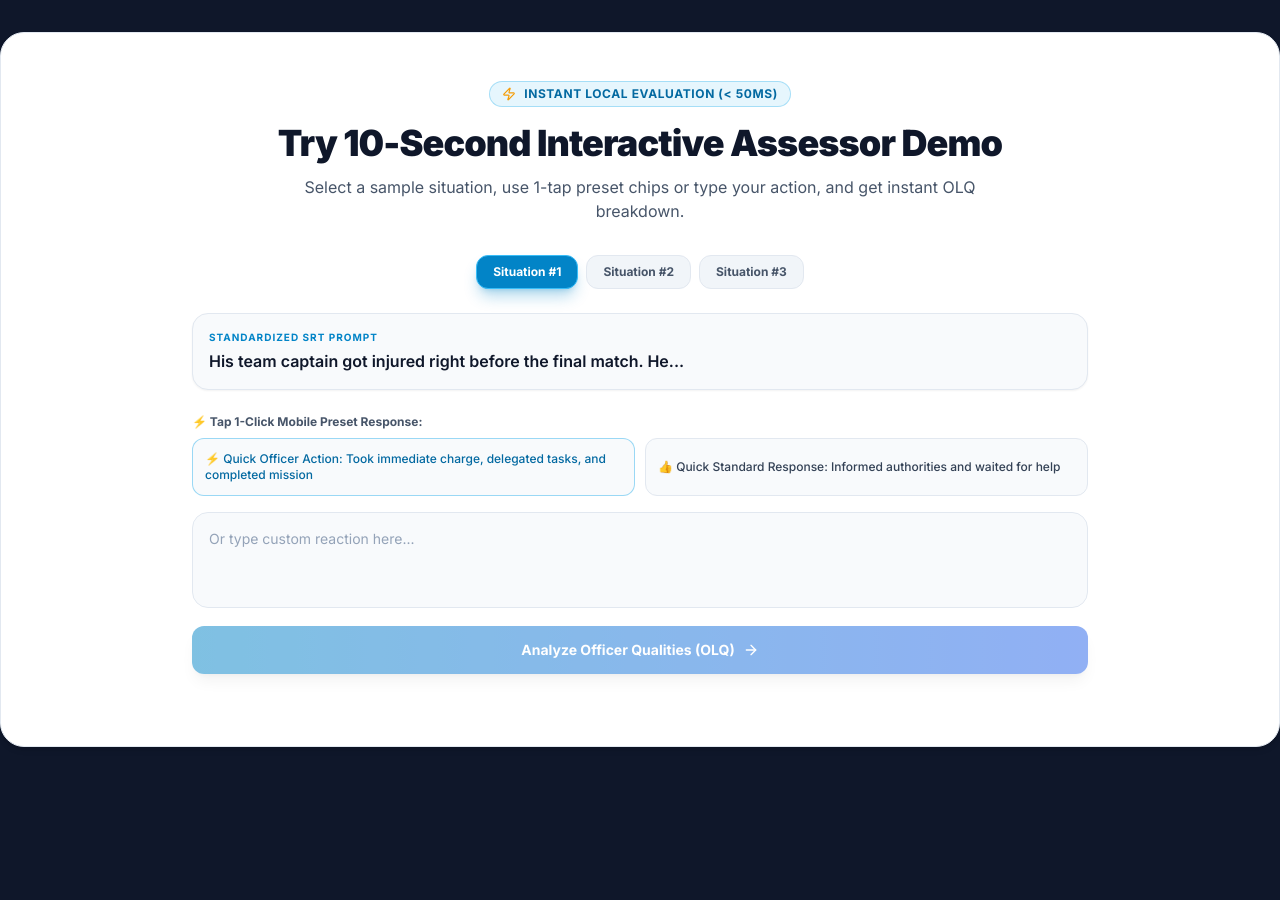
Scenario: InteractiveSandbox Component & Local Evaluator › auto-fills text input and runs instant evaluation when 1-tap preset chip is clicked
Click the button with test id "chip-officer": point(414, 467) [192, 438, 635, 496]
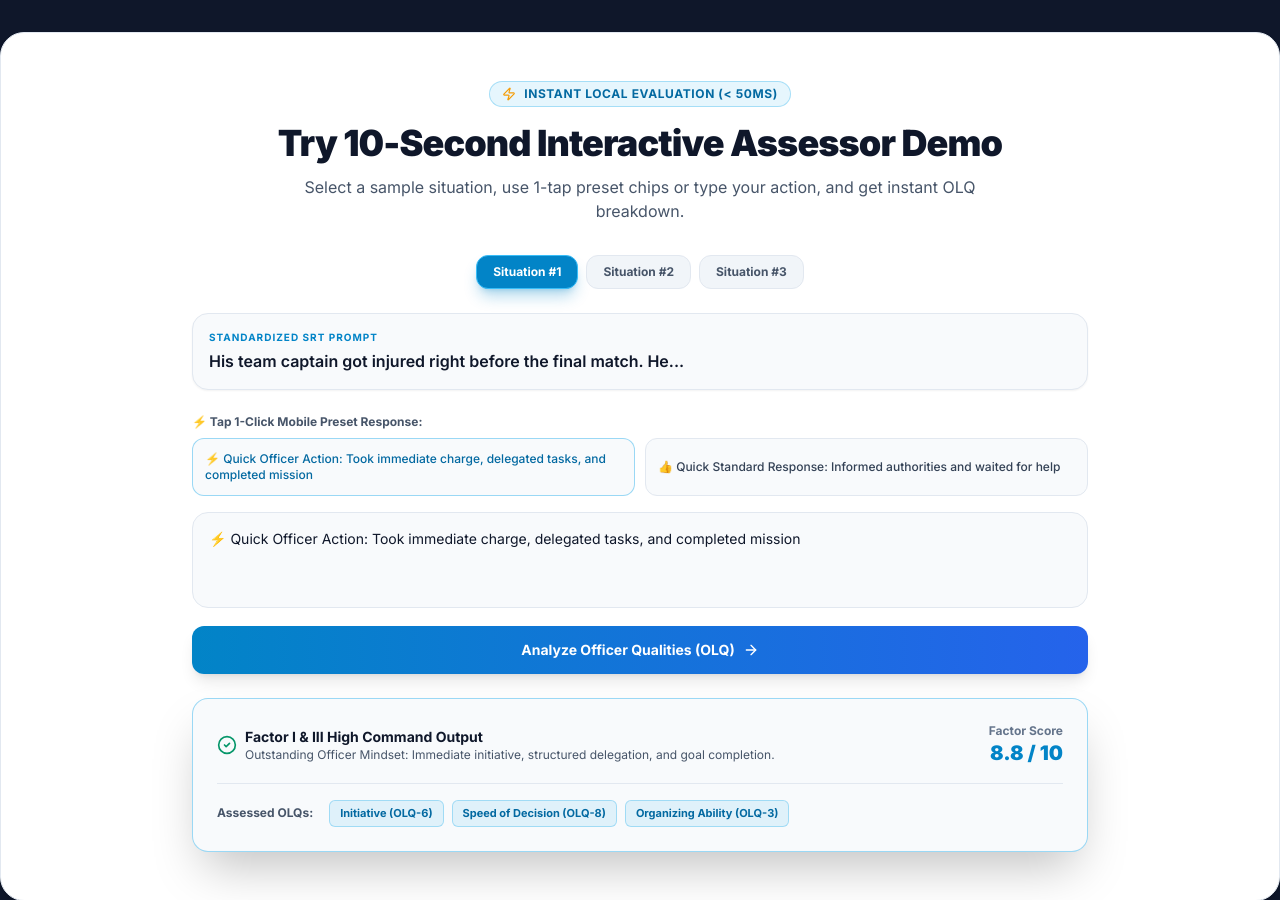
Check: the element with test id "sandbox-result-card" is shown, box [192, 698, 1088, 852]
Check: the heading "Factor I & III High Command Output" is shown, box [245, 728, 483, 745]
